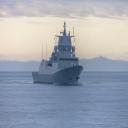Fragata: (32, 19, 85, 88)
